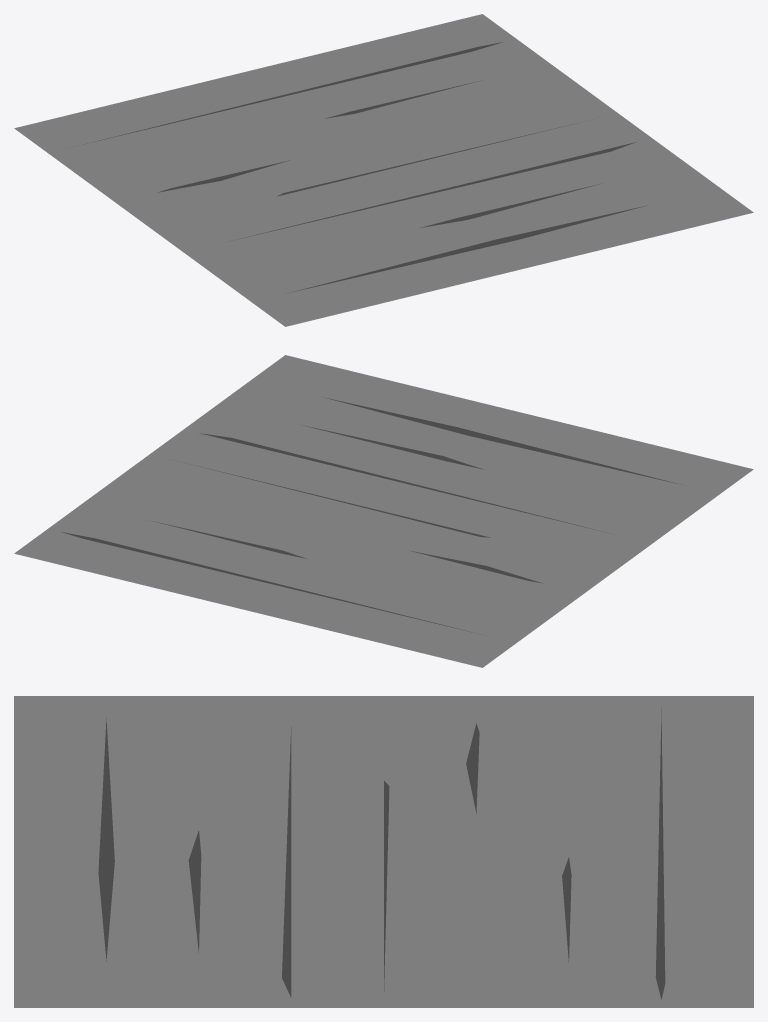
The model's file is prop_36.FBX.
3 views of the same model, one above another, from view 1: azimuth 30°, elevation 25°; view 2: azimuth 150°, elevation 25°; view 3: azimuth 270°, elevation 25° (orthographic). The views are drawn at different scales.
Visible parts, largest first — view 1: prop_36; view 2: prop_36; view 3: prop_36.
Part boxes in pixels (<box>): prop_36: <box>14,14,753,326</box>; prop_36: <box>14,355,753,667</box>; prop_36: <box>14,696,753,1007</box>.
Bounding box in the file's own units: 122 × 5.35e-06 × 122.
